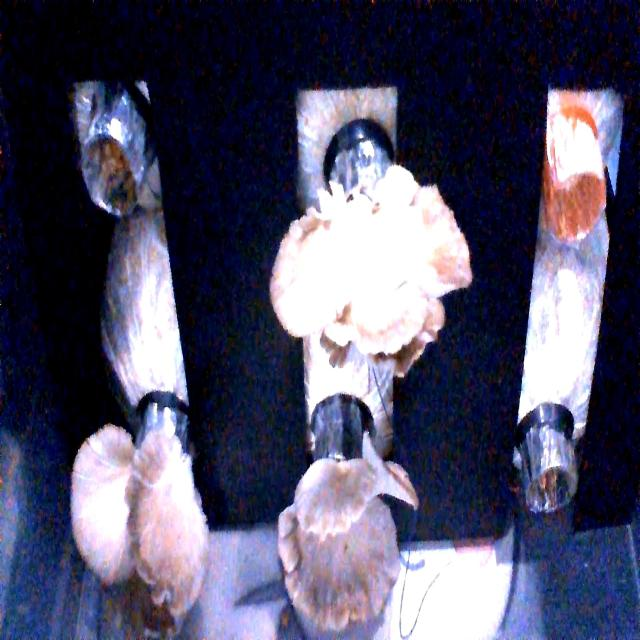big: (273, 167, 463, 354), (60, 411, 203, 609), (276, 442, 418, 632)
nfound: (517, 425, 582, 537), (545, 157, 608, 248), (77, 129, 141, 218)
